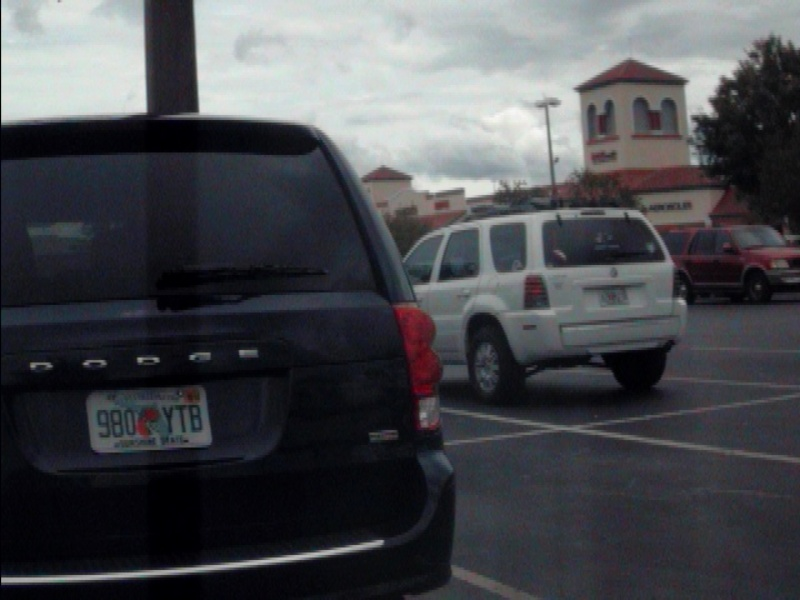licence plate: (83, 382, 211, 452), (595, 289, 629, 307)
